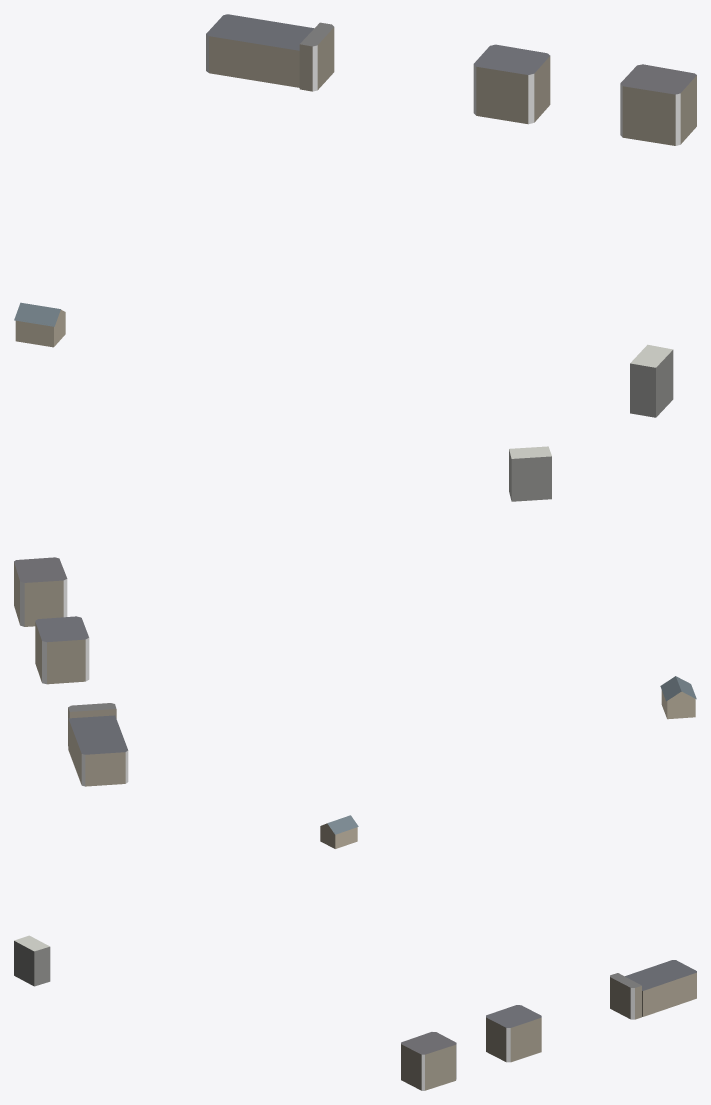
3 views of the same model, one above another, from view 1: azimuth 30°, elevation 25°; view 2: azimuth 150°, elevation 25°; view 3: azimuth 270°, elevation 25° (orthographic). The views are drawn at different scales.
Parts seen in each view (by area): view 1: tuile; view 2: tuile; view 3: tuile.
Boxes of the visible parts, bbox=[...] form: tuile: bbox=[14, 14, 696, 417]; tuile: bbox=[14, 446, 696, 786]; tuile: bbox=[14, 815, 696, 1090].
Size of the model in its own units: 221 by 15.68 by 252.
